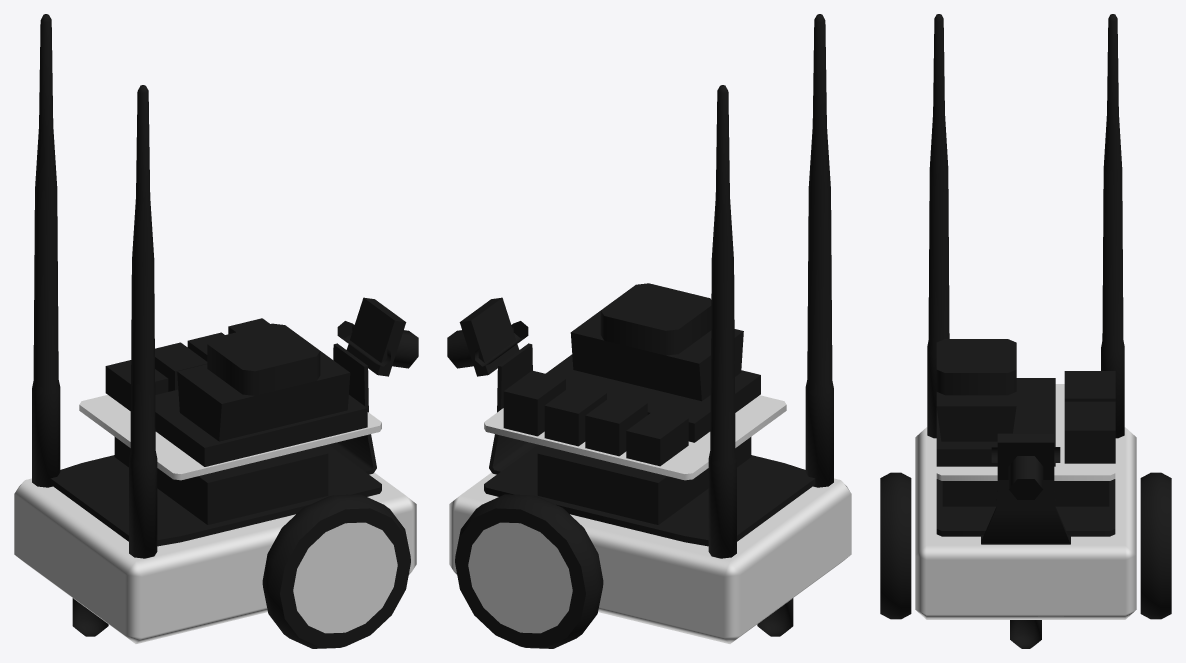
The model's file is robot-final.gltf.
3 views of the same model, side by side, from view 1: azimuth 30°, elevation 25°; view 2: azimuth 150°, elevation 25°; view 3: azimuth 270°, elevation 25° (orthographic). The views are drawn at different scales.
Parts seen in each view (by area): view 1: Cube, Cylinder, Cylinder.001, Cylinder.006, Cube.006, Cube.001, Cube.002, Cube.007, Cube.009, Cube.005, Cube.008, Cube.003 (+3 smaller); view 2: Cube, Cylinder, Cube.008, Cylinder.001, Cylinder.006, Cube.006, Cube.001, Cube.002, Cube.007, Cube.005, Cube.009, Cube.003 (+3 smaller); view 3: Cube, Cylinder, Cylinder.001, Cube.008, Cube.007, Cube.009, Cube.004, Cube.006, Cube.002, Cube.001, Cube.005, Cube.003 (+2 smaller).
Boxes of the visible parts, x1=… form: Cube: x1=14, y1=472, x2=416, y2=643; Cylinder: x1=32, y1=14, x2=157, y2=558; Cylinder.001: x1=262, y1=494, x2=410, y2=648; Cylinder.006: x1=293, y1=522, x2=397, y2=633; Cube.006: x1=50, y1=444, x2=381, y2=546; Cube.001: x1=114, y1=437, x2=328, y2=524; Cube.002: x1=177, y1=351, x2=350, y2=441; Cube.007: x1=207, y1=323, x2=320, y2=395; Cube.009: x1=155, y1=389, x2=367, y2=466; Cube.005: x1=79, y1=395, x2=381, y2=480; Cube.008: x1=105, y1=318, x2=269, y2=410; Cube.003: x1=346, y1=297, x2=406, y2=376; Cube: x1=449, y1=472, x2=851, y2=643; Cylinder: x1=708, y1=14, x2=833, y2=558; Cube.008: x1=503, y1=370, x2=688, y2=466; Cylinder.001: x1=455, y1=494, x2=603, y2=648; Cylinder.006: x1=468, y1=522, x2=572, y2=633; Cube.006: x1=484, y1=444, x2=815, y2=546; Cube.001: x1=537, y1=437, x2=751, y2=524; Cube.002: x1=570, y1=311, x2=743, y2=401; Cube.007: x1=600, y1=283, x2=711, y2=355; Cube.005: x1=484, y1=395, x2=786, y2=480; Cube.009: x1=545, y1=354, x2=760, y2=442; Cube.003: x1=459, y1=297, x2=519, y2=376; Cube: x1=915, y1=427, x2=1136, y2=619; Cylinder: x1=927, y1=14, x2=1124, y2=438; Cylinder.001: x1=880, y1=472, x2=1171, y2=619; Cube.008: x1=1064, y1=371, x2=1115, y2=463; Cube.007: x1=936, y1=339, x2=1016, y2=395; Cube.009: x1=936, y1=378, x2=1055, y2=466; Cube.004: x1=981, y1=480, x2=1070, y2=544; Cube.006: x1=936, y1=479, x2=1115, y2=536; Cube.002: x1=936, y1=391, x2=1016, y2=441; Cube.001: x1=942, y1=481, x2=1109, y2=506; Cube.005: x1=936, y1=384, x2=1115, y2=480; Cube.003: x1=997, y1=433, x2=1054, y2=479.
Bounding box in the file's own units: 0.1607 × 0.2603 × 0.1313.
1 material, 1 textured.
